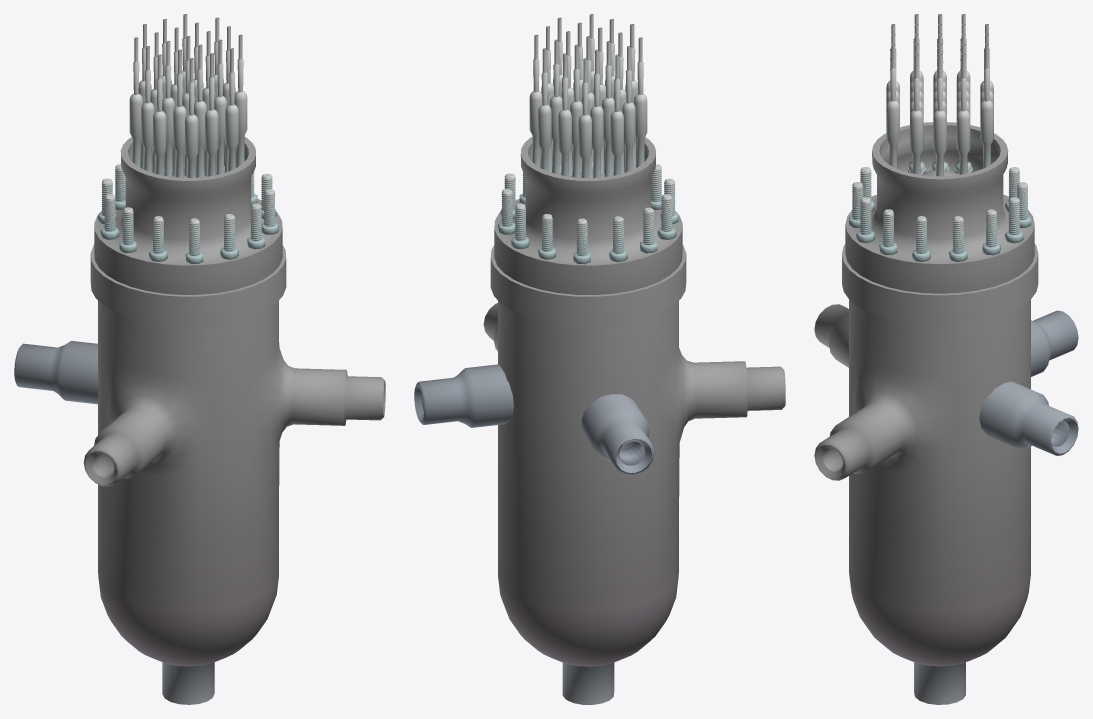
Rendered from Yotuber_Nuclear_Reacts_To_Demon_Core.glb.
The picture shows the model from 3 angles, left to right: view 1: azimuth 30°, elevation 25°; view 2: azimuth 150°, elevation 25°; view 3: azimuth 270°, elevation 25°; orthographic projection.
Parts seen in each view (by area): view 1: Base, Top_Cap, Bolts, Internal_Base, BottomBit, Control_Rods.009, Control_Rods.019, Control_Rods.020, Control_Rods.023, Control_Rods.021, Control_Rods.018, Control_Rods.003 (+4 smaller); view 2: Base, Top_Cap, Internal_Base, Bolts, BottomBit, Control_Rods.019, Control_Rods.013, Control_Rods.010, Control_Rods.011, Control_Rods.009, Control_Rods.008, Control_Rods.006 (+4 smaller); view 3: Base, Top_Cap, Internal_Base, Bolts, BottomBit, Control_Rods.007, Control_Rods.021, Control_Rods.017, Control_Rods.002, Control_Rods.011.
Boxes of the visible parts, x1=… form: Base: x1=83, y1=244, x2=385, y2=666; Top_Cap: x1=94, y1=137, x2=282, y2=294; Bolts: x1=98, y1=164, x2=278, y2=263; Internal_Base: x1=14, y1=341, x2=98, y2=404; BottomBit: x1=162, y1=662, x2=214, y2=704; Control_Rods.009: x1=129, y1=37, x2=142, y2=167; Control_Rods.019: x1=153, y1=54, x2=166, y2=175; Control_Rods.020: x1=205, y1=53, x2=218, y2=176; Control_Rods.023: x1=185, y1=58, x2=198, y2=177; Control_Rods.021: x1=225, y1=48, x2=238, y2=171; Control_Rods.018: x1=173, y1=49, x2=186, y2=177; Control_Rods.003: x1=162, y1=41, x2=174, y2=176; Base: x1=483, y1=244, x2=785, y2=666; Top_Cap: x1=494, y1=137, x2=682, y2=294; Internal_Base: x1=414, y1=364, x2=654, y2=474; Bolts: x1=498, y1=164, x2=678, y2=264; BottomBit: x1=562, y1=662, x2=614, y2=704; Control_Rods.019: x1=634, y1=37, x2=647, y2=167; Control_Rods.013: x1=578, y1=58, x2=591, y2=177; Control_Rods.010: x1=558, y1=53, x2=571, y2=176; Control_Rods.011: x1=538, y1=48, x2=551, y2=171; Control_Rods.009: x1=610, y1=54, x2=623, y2=175; Control_Rods.008: x1=590, y1=49, x2=603, y2=177; Control_Rods.006: x1=549, y1=39, x2=562, y2=174; Base: x1=814, y1=243, x2=1038, y2=666; Top_Cap: x1=845, y1=122, x2=1034, y2=293; Internal_Base: x1=979, y1=310, x2=1078, y2=455; Bolts: x1=849, y1=167, x2=1031, y2=261; BottomBit: x1=914, y1=662, x2=965, y2=704; Control_Rods.007: x1=956, y1=53, x2=970, y2=174; Control_Rods.021: x1=886, y1=43, x2=899, y2=168; Control_Rods.017: x1=910, y1=53, x2=923, y2=174; Control_Rods.002: x1=933, y1=53, x2=946, y2=176; Control_Rods.011: x1=980, y1=43, x2=993, y2=168.
Size of the model in its own units: 13.07 by 27.31 by 9.92.
Materials: 1 (1 with a texture image).
